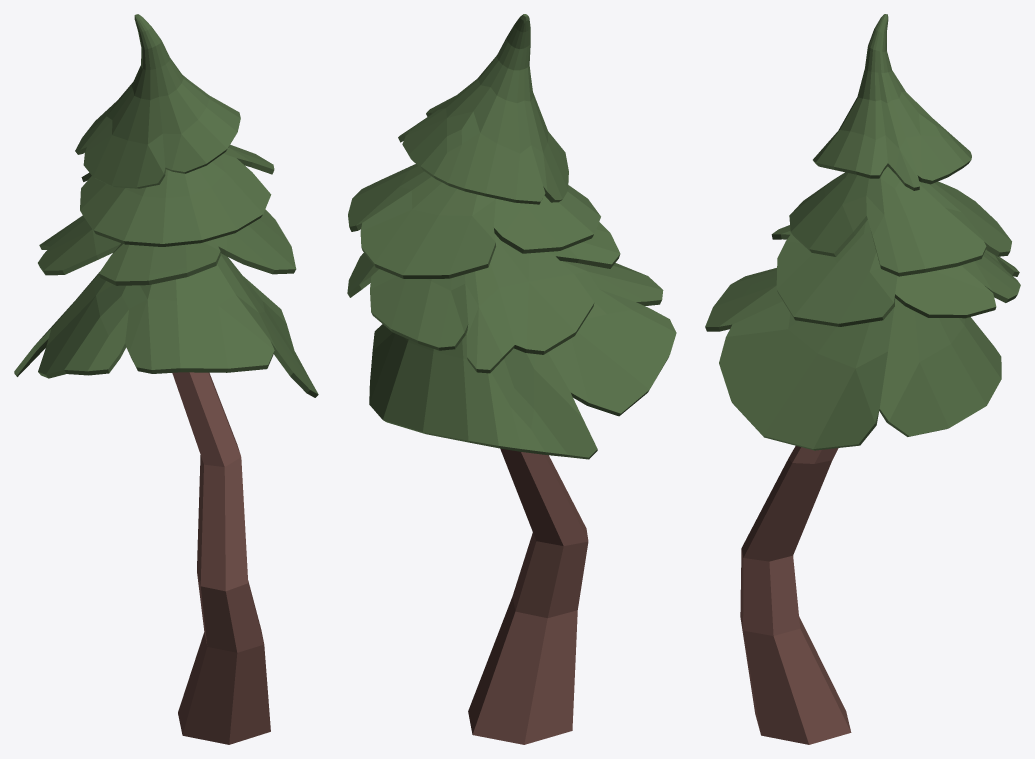
The model's file is pinetree_4.glb.
3 renders of one model, left to right at view 1: azimuth 30°, elevation 25°; view 2: azimuth 150°, elevation 25°; view 3: azimuth 270°, elevation 25°, orthographic. The views are drawn at different scales.
Visible parts, largest first — view 1: PineTree_4; view 2: PineTree_4; view 3: PineTree_4.
Part boxes in pixels (x1=…): PineTree_4: x1=14, y1=14, x2=318, y2=744; PineTree_4: x1=347, y1=14, x2=676, y2=744; PineTree_4: x1=705, y1=14, x2=1020, y2=744.
Size of the model in its own units: 1.25 by 3.34 by 1.39.
